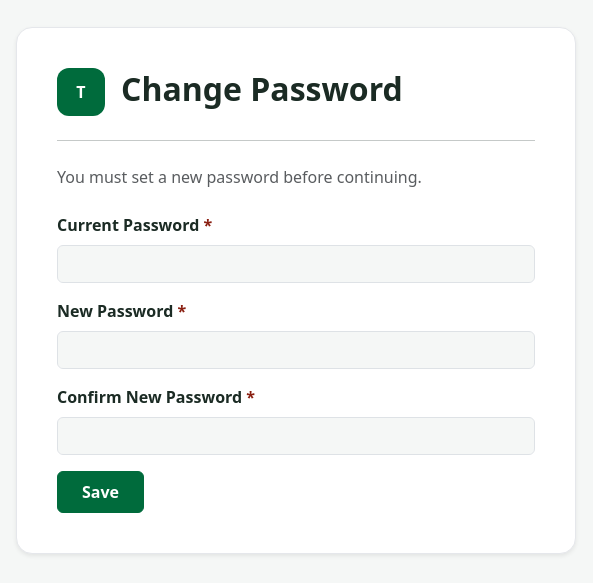
ChangePassword › shows a field-level error for a wrong current password
The width and height of the screenshot is (593, 583).
In the password field labelled "Current Password *": (296, 264) 57,244 -> 535,282, type "WrongCurrent1!"
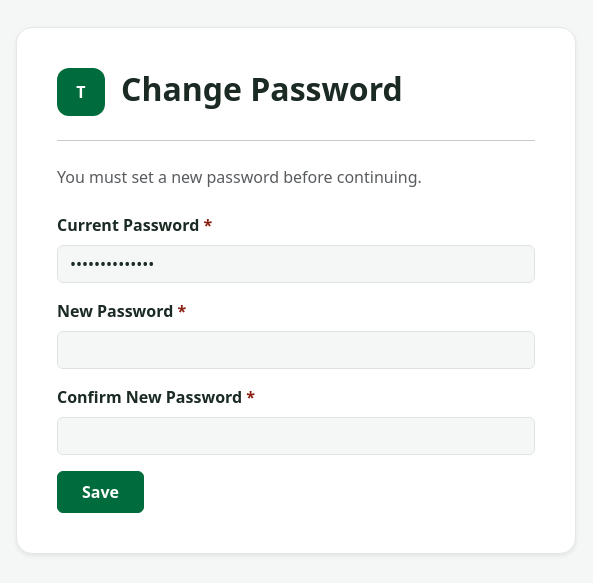
In the password field labelled "New Password *": (296, 350) 57,330 -> 535,368, type "BrandNewPass1!"
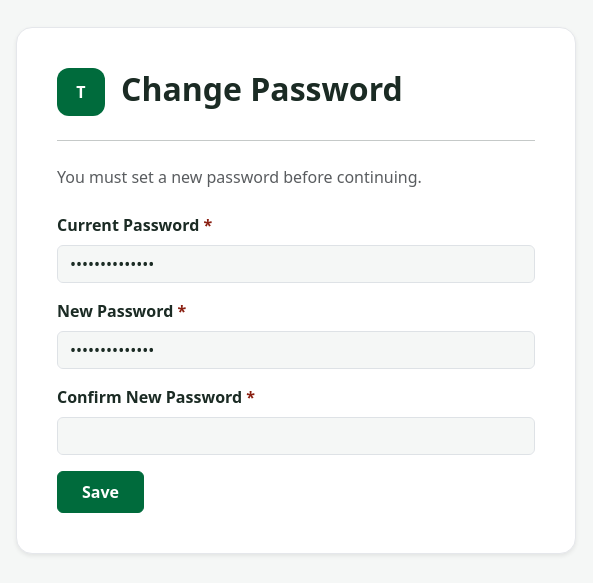
In the password field labelled "Confirm New Password *": (296, 436) 57,416 -> 535,454, type "BrandNewPass1!"
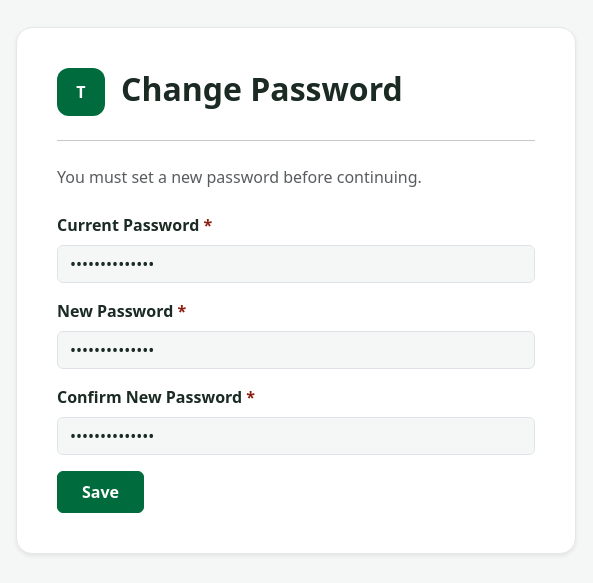
Click the button "Save": (100, 492) 57,470 -> 144,512
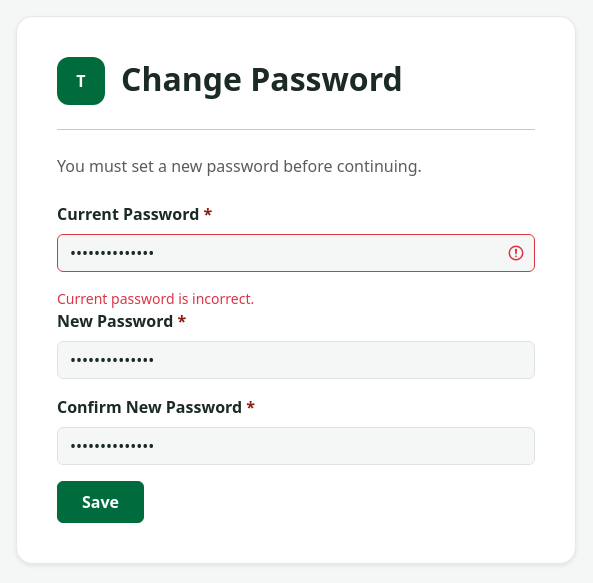
Check: the text "Current password is incorrect." is shown, box 57,289 -> 254,308
